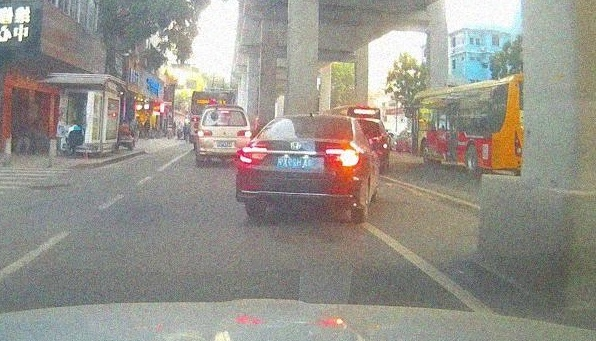L_light: (238, 146, 267, 165)
R_light: (325, 148, 360, 167)
T_light: (301, 118, 318, 121)
day-right: (235, 113, 364, 220)
